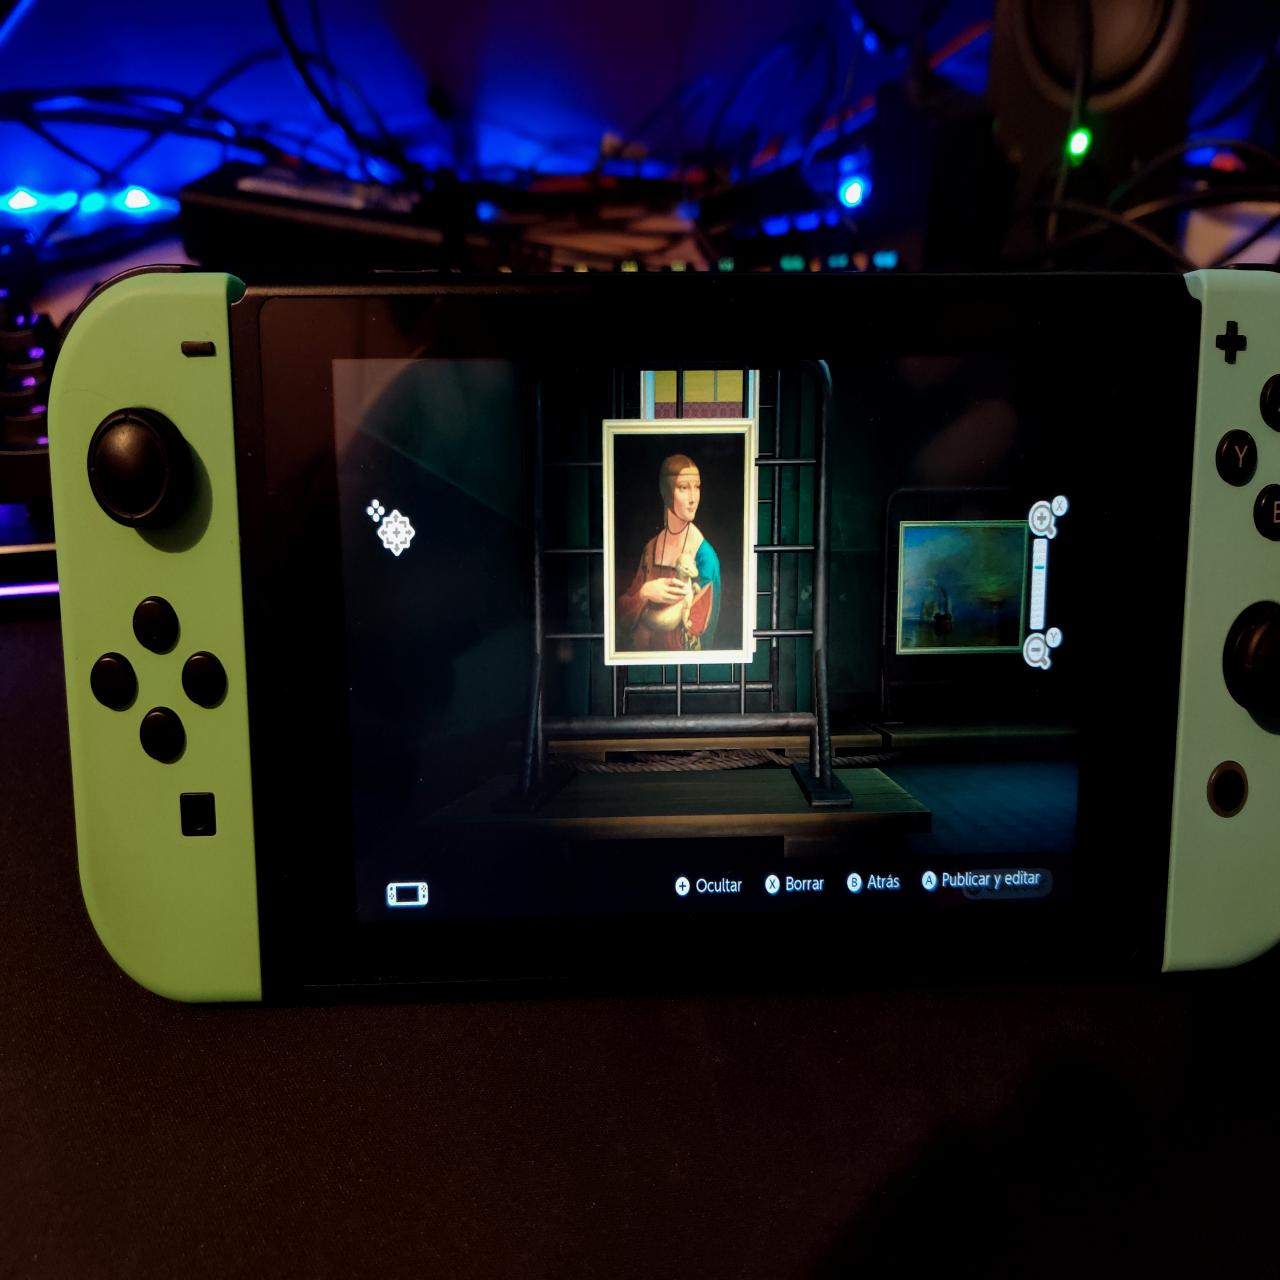FightingTemeraire: (905, 529, 1024, 651)
PortraitCecilia: (617, 433, 745, 651)
